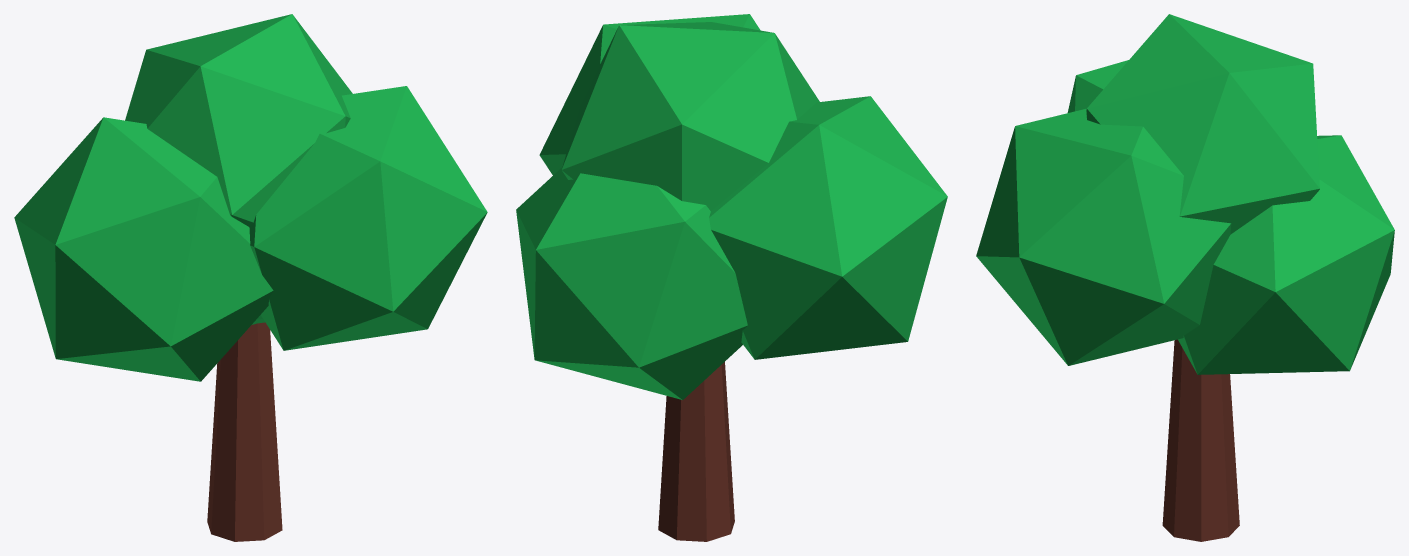
File: tree_v2_fixed.glb
3 views of the same model, side by side, from view 1: azimuth 30°, elevation 25°; view 2: azimuth 150°, elevation 25°; view 3: azimuth 270°, elevation 25° (orthographic). The views are drawn at different scales.
Visible parts, largest first — view 1: Icosphere.005, Icosphere.004, Icosphere.001, Icosphere; view 2: Icosphere.005, Icosphere.003, Icosphere.001, Icosphere, Icosphere.004; view 3: Icosphere.004, Icosphere.003, Icosphere.001, Icosphere, Icosphere.005.
Part boxes in pixels (x1,y1,x2,y2): Icosphere.005: (14,117,273,381); Icosphere.004: (249,86,487,350); Icosphere.001: (125,14,352,226); Icosphere: (207,322,282,541); Icosphere.005: (709,96,947,359); Icosphere.003: (516,167,747,399); Icosphere.001: (561,22,819,210); Icosphere: (658,362,734,541); Icosphere.004: (539,14,760,175); Icosphere.004: (976,108,1231,365); Icosphere.003: (1178,135,1394,374); Icosphere.001: (1086,14,1319,234); Icosphere: (1162,339,1239,541); Icosphere.005: (1067,60,1128,112).
Size of the model in its own units: 11.59 by 13.78 by 10.84.
